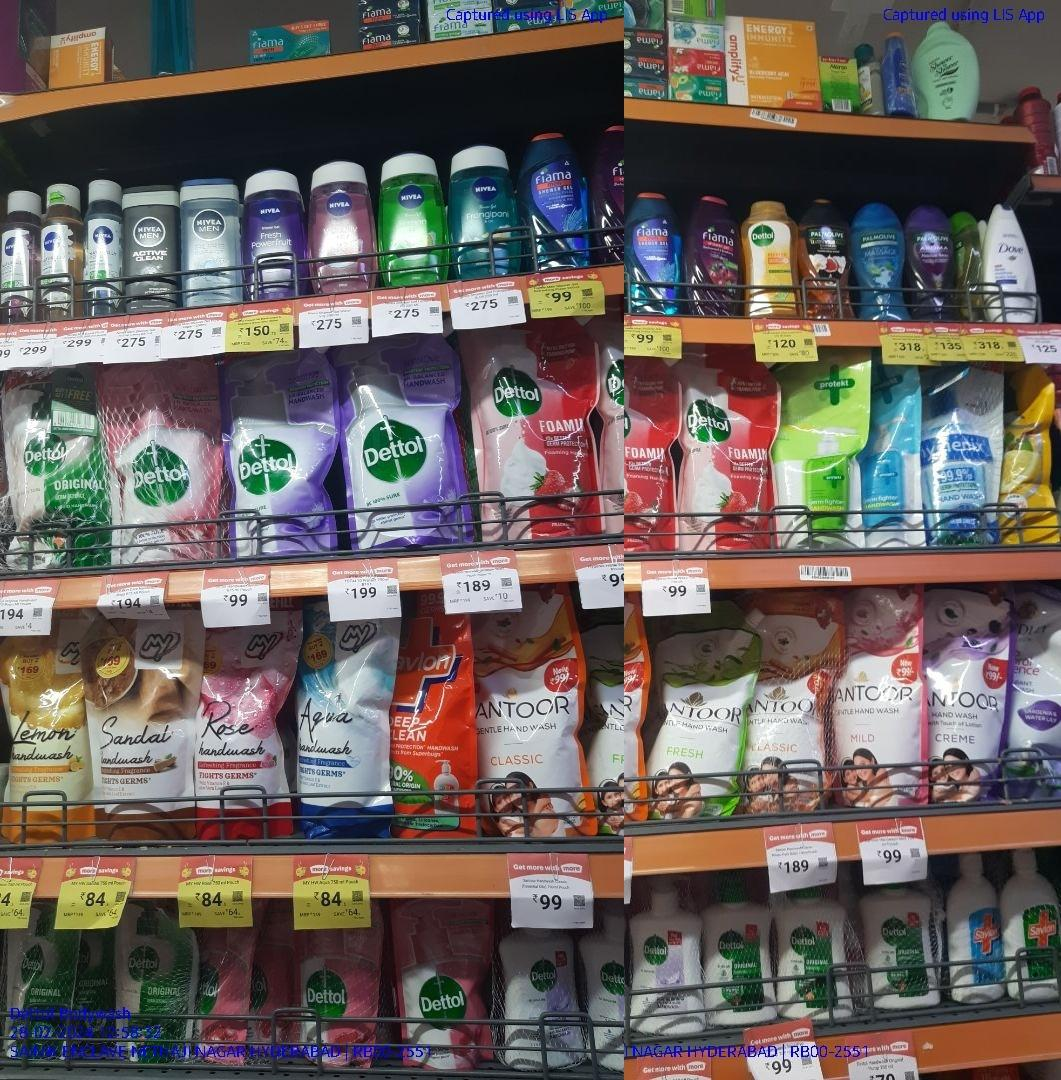Dettol_Bodywash_Refresh: (742, 198, 794, 318)
Dove_Deep_Moisture_Body_Wash_250ML: (984, 200, 1036, 326)
Nivea_Shower_Gel_Frangipani_and_Oil_250ML: (449, 141, 517, 280)
Nivea_Shower_Gel_Fresh_Powerfruit_250ML: (242, 165, 304, 304)
Nivea_Shower_Gel_Lemon_and_Oil_250ML: (381, 148, 445, 290)
Nivea_Shower_Gel_Waterlily_and_Oil_250ML: (309, 159, 373, 294)
Palmolive_Aroma_Moments_Feel_The_Massage_Shower_Gel_250ML: (853, 199, 903, 322)
Palmolive_Aroma_Relax_250ML: (907, 203, 956, 322)
Palmolive_Luminous_Oils_With_White_Orchid_Shower_Gel_250ML: (798, 193, 852, 320)
